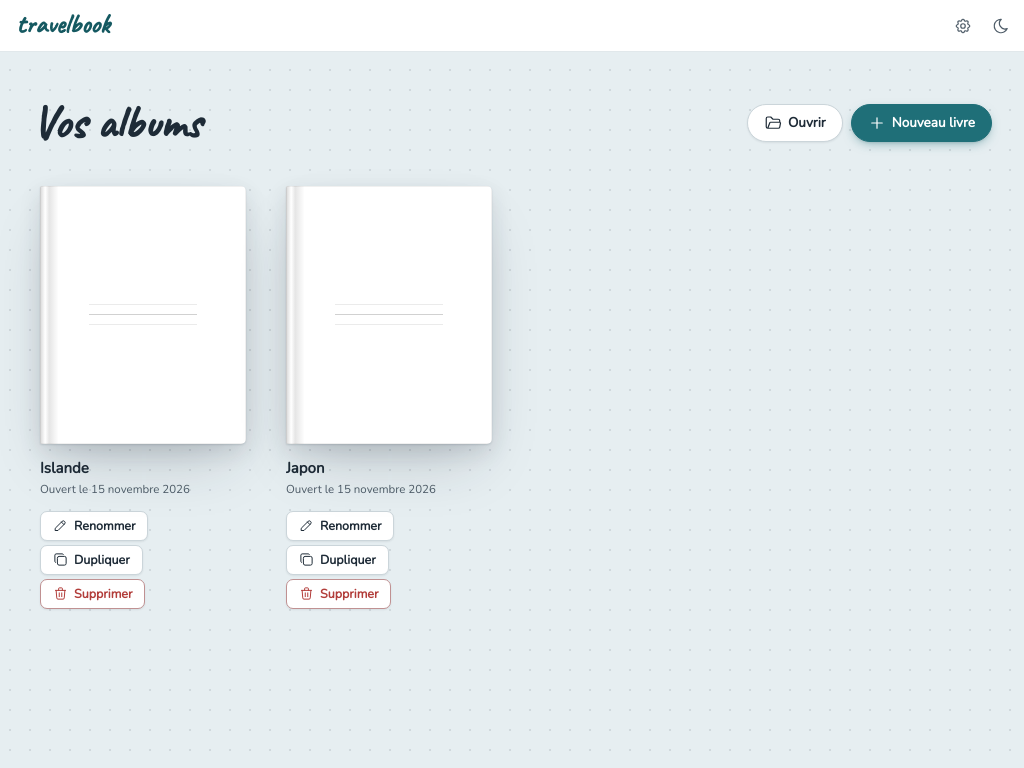
Test: Home: delete an album › asks first; "Annuler" deletes nothing and has the focus
The image size is (1024, 768).
Expected: the text "Islande" is shown, x1=40 y1=458 x2=89 y2=478
Click the 1st button "Supprimer": (93, 594) x1=40 y1=579 x2=146 y2=609
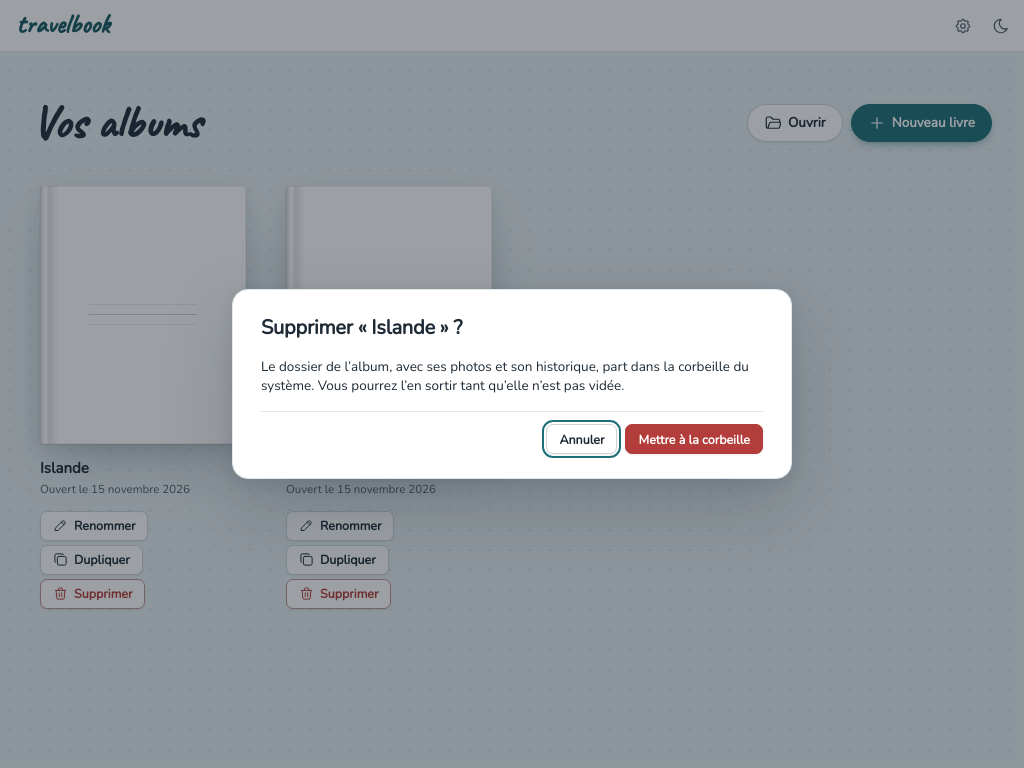
Click the button "Annuler": (582, 439) x1=546 y1=424 x2=618 y2=454
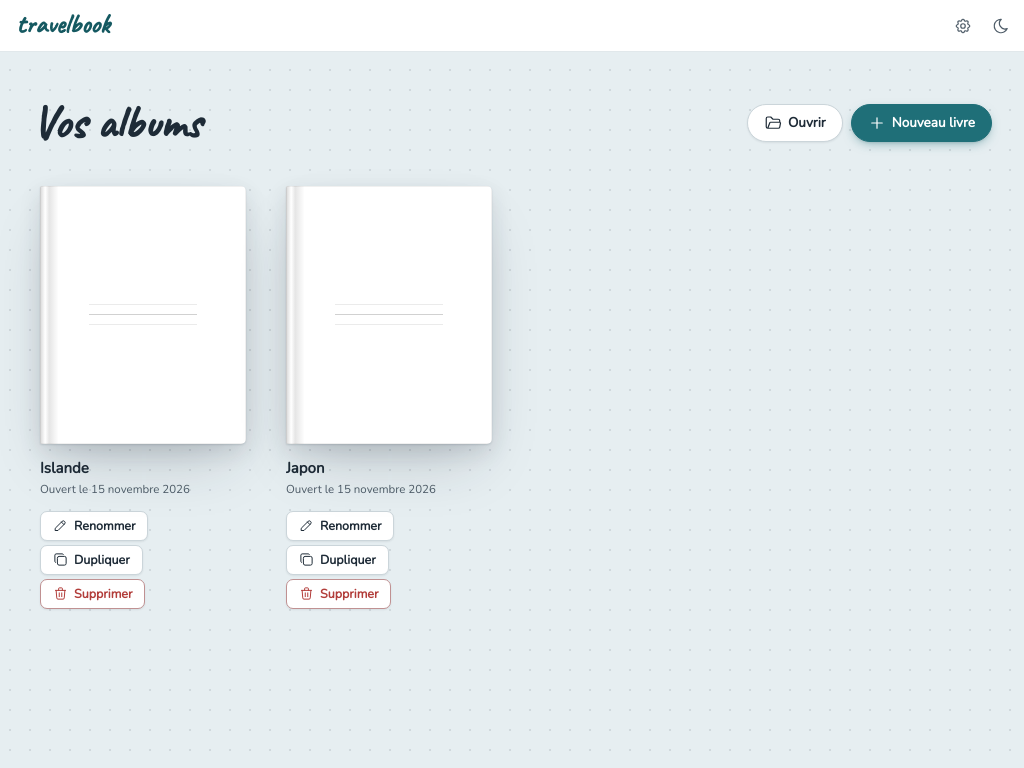
Expected: the text "Islande" is shown, x1=40 y1=458 x2=89 y2=478
Expected: the dialog is gone
